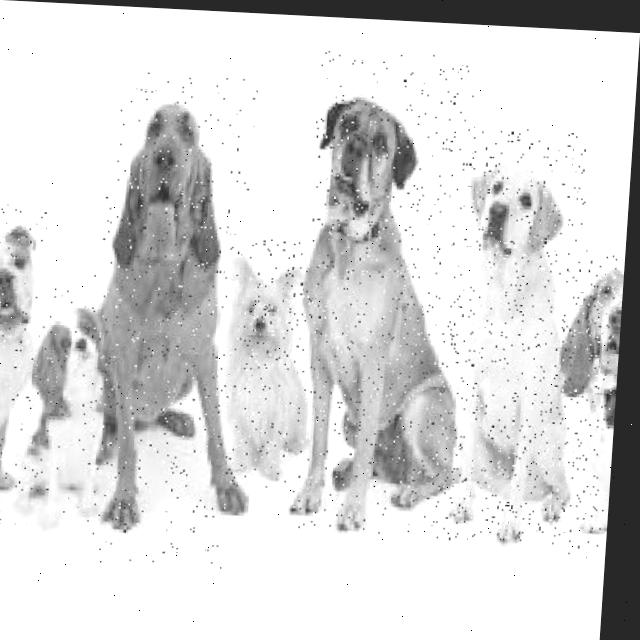Dog: (289, 47, 487, 540), (81, 69, 260, 571), (433, 126, 592, 549), (219, 234, 324, 494), (545, 249, 623, 561), (26, 269, 116, 532), (0, 199, 51, 528)
